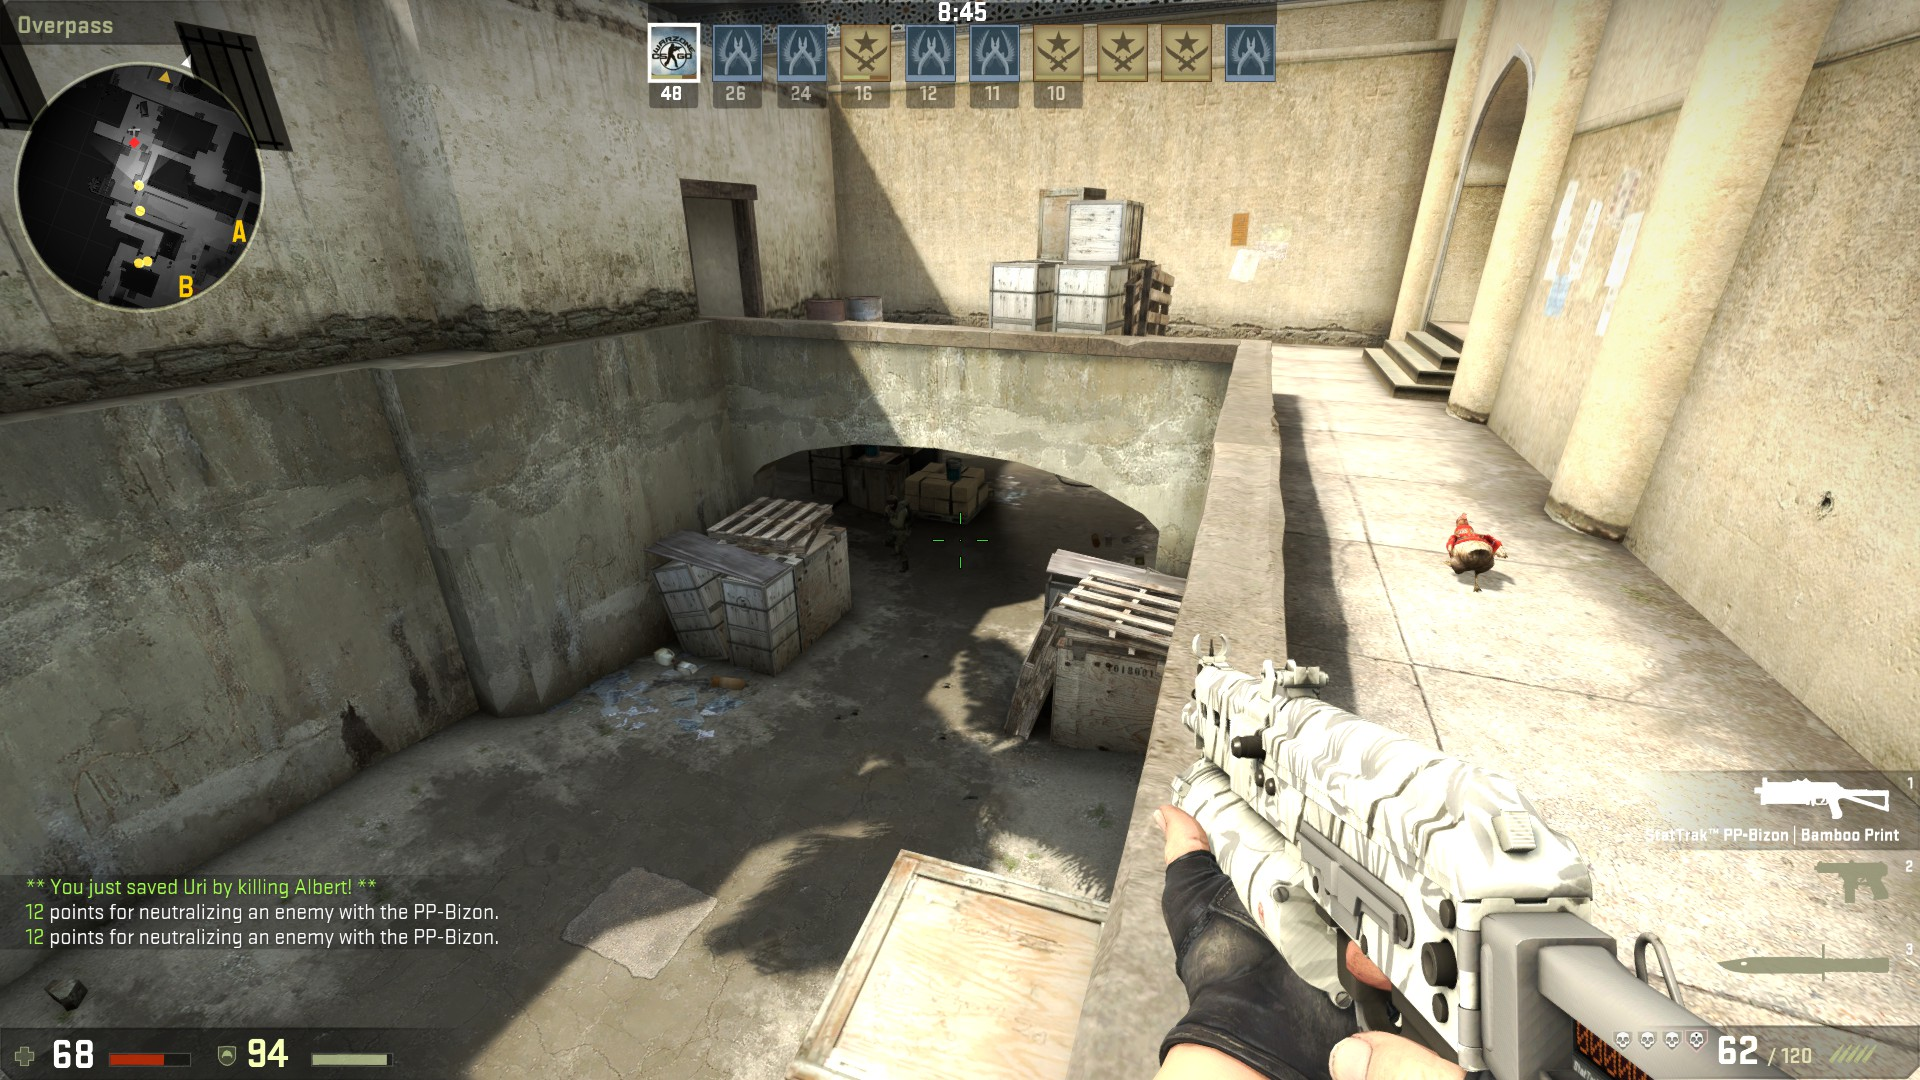c: (881, 495, 914, 572)
ch: (885, 495, 899, 512)
